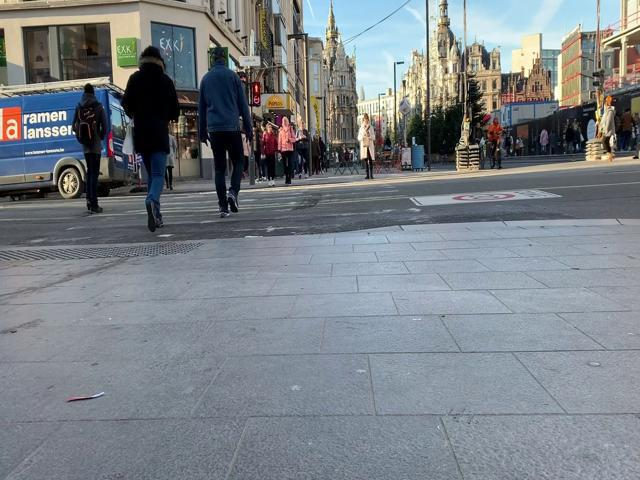shoe: (145, 201, 157, 232), (226, 194, 238, 213)
